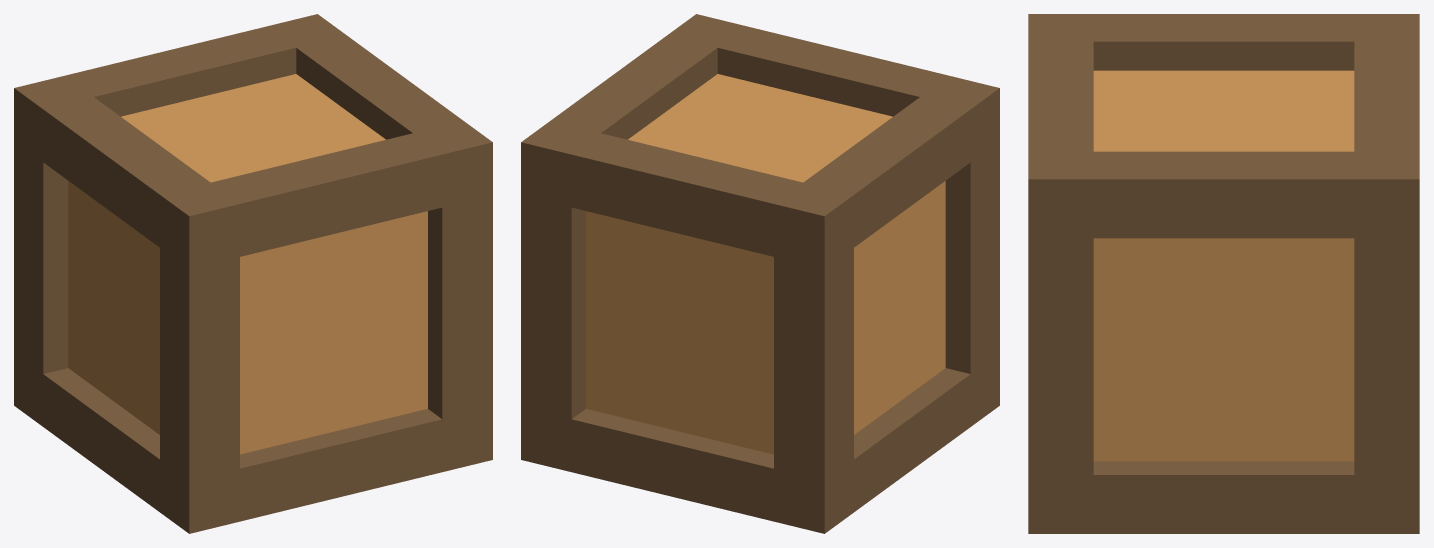
The picture shows the model from 3 angles, left to right: view 1: azimuth 30°, elevation 25°; view 2: azimuth 150°, elevation 25°; view 3: azimuth 270°, elevation 25°; orthographic projection. The views are drawn at different scales.
Visible parts, largest first — view 1: Cube; view 2: Cube; view 3: Cube.
Part boxes in pixels (box(x1,y1,x2,y2)): Cube: box(14, 14, 492, 533); Cube: box(521, 14, 999, 533); Cube: box(1028, 14, 1419, 533).
Bounding box in the file's own units: 304 × 304 × 304.
